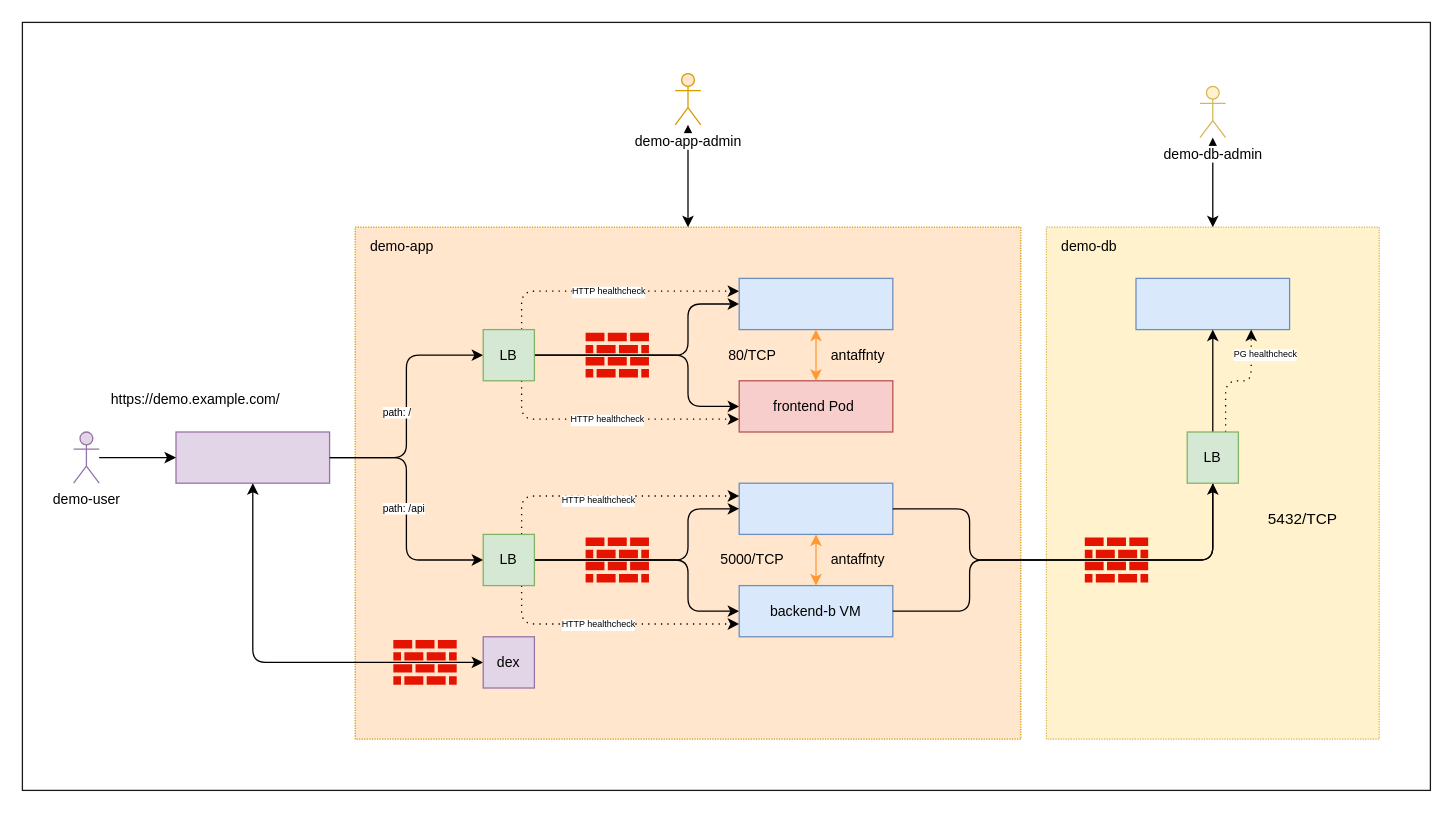
Image size: 1453x813. Some labels were removed from this diagram. Here are the shapes that lost their labels. From the top down, the box of each, then its label:
(738, 277, 893, 330): frontend VM
(1135, 277, 1290, 330): db VM
(175, 431, 330, 483): ingress
(738, 482, 893, 534): backend-a VM
